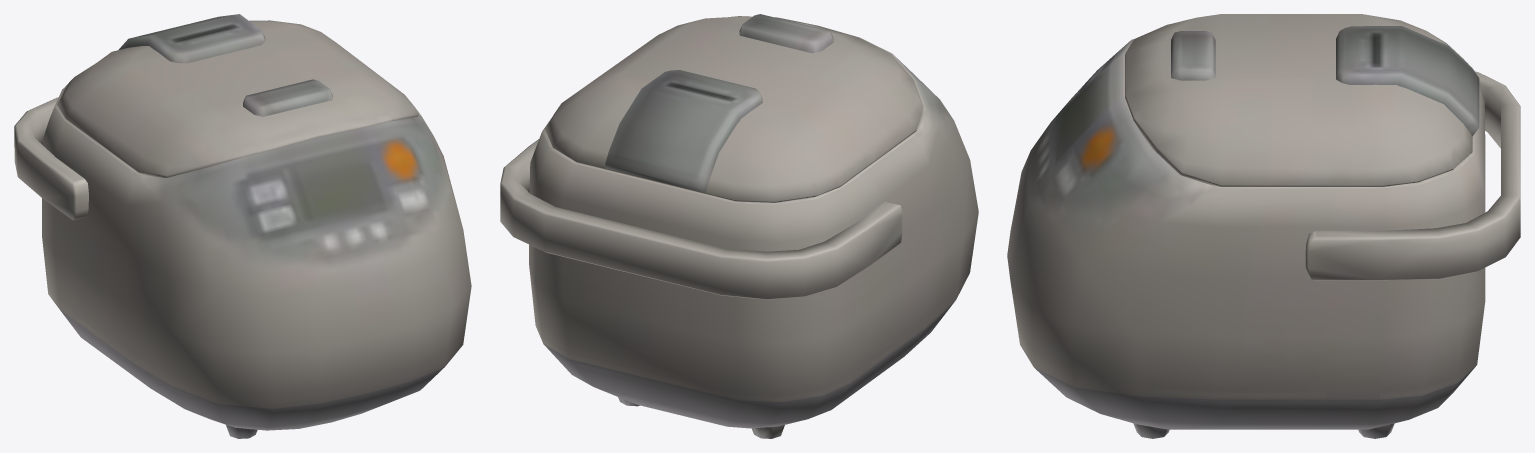
3 renders of one model, left to right at view 1: azimuth 30°, elevation 25°; view 2: azimuth 150°, elevation 25°; view 3: azimuth 270°, elevation 25°, orthographic. The views are drawn at different scales.
Size of the model in its own units: 5.52 by 5.05 by 6.77.
Materials: 1 (1 with a texture image).
